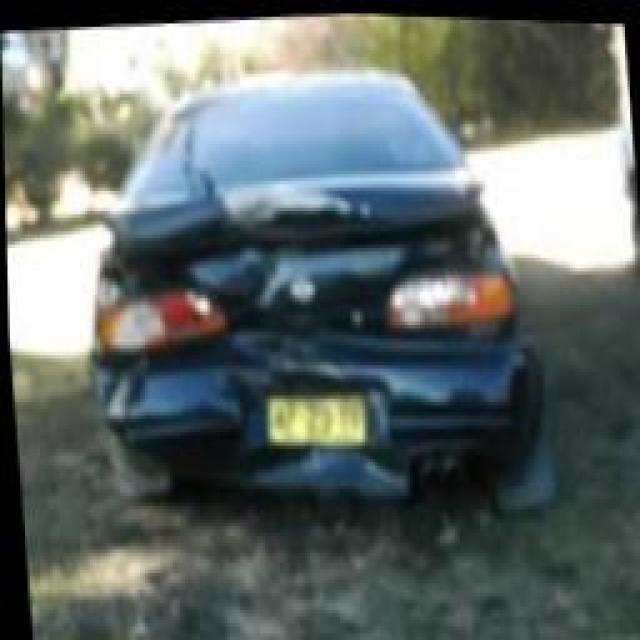Bumper: (88, 325, 539, 499)
Dickey: (92, 162, 496, 323)
